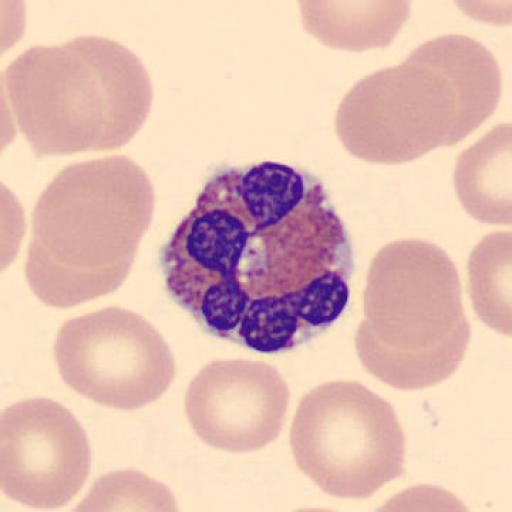RBC: (28, 154, 157, 306), (356, 233, 472, 393), (288, 378, 407, 504), (52, 302, 178, 412), (333, 62, 456, 166), (50, 32, 154, 152), (399, 31, 503, 148), (3, 42, 107, 158), (183, 356, 292, 455), (2, 396, 93, 510), (24, 230, 137, 310), (452, 121, 512, 227), (297, 0, 413, 54), (64, 467, 182, 512), (468, 228, 512, 339), (365, 481, 484, 512), (1, 180, 26, 277), (449, 0, 512, 28), (0, 64, 18, 157), (0, 0, 28, 59), (0, 91, 18, 156), (271, 503, 365, 512)
WBC: (160, 158, 355, 354)
